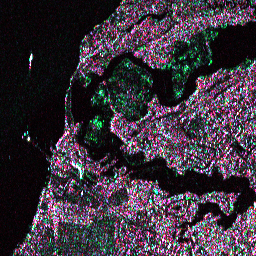ship: (27, 52, 34, 63)
